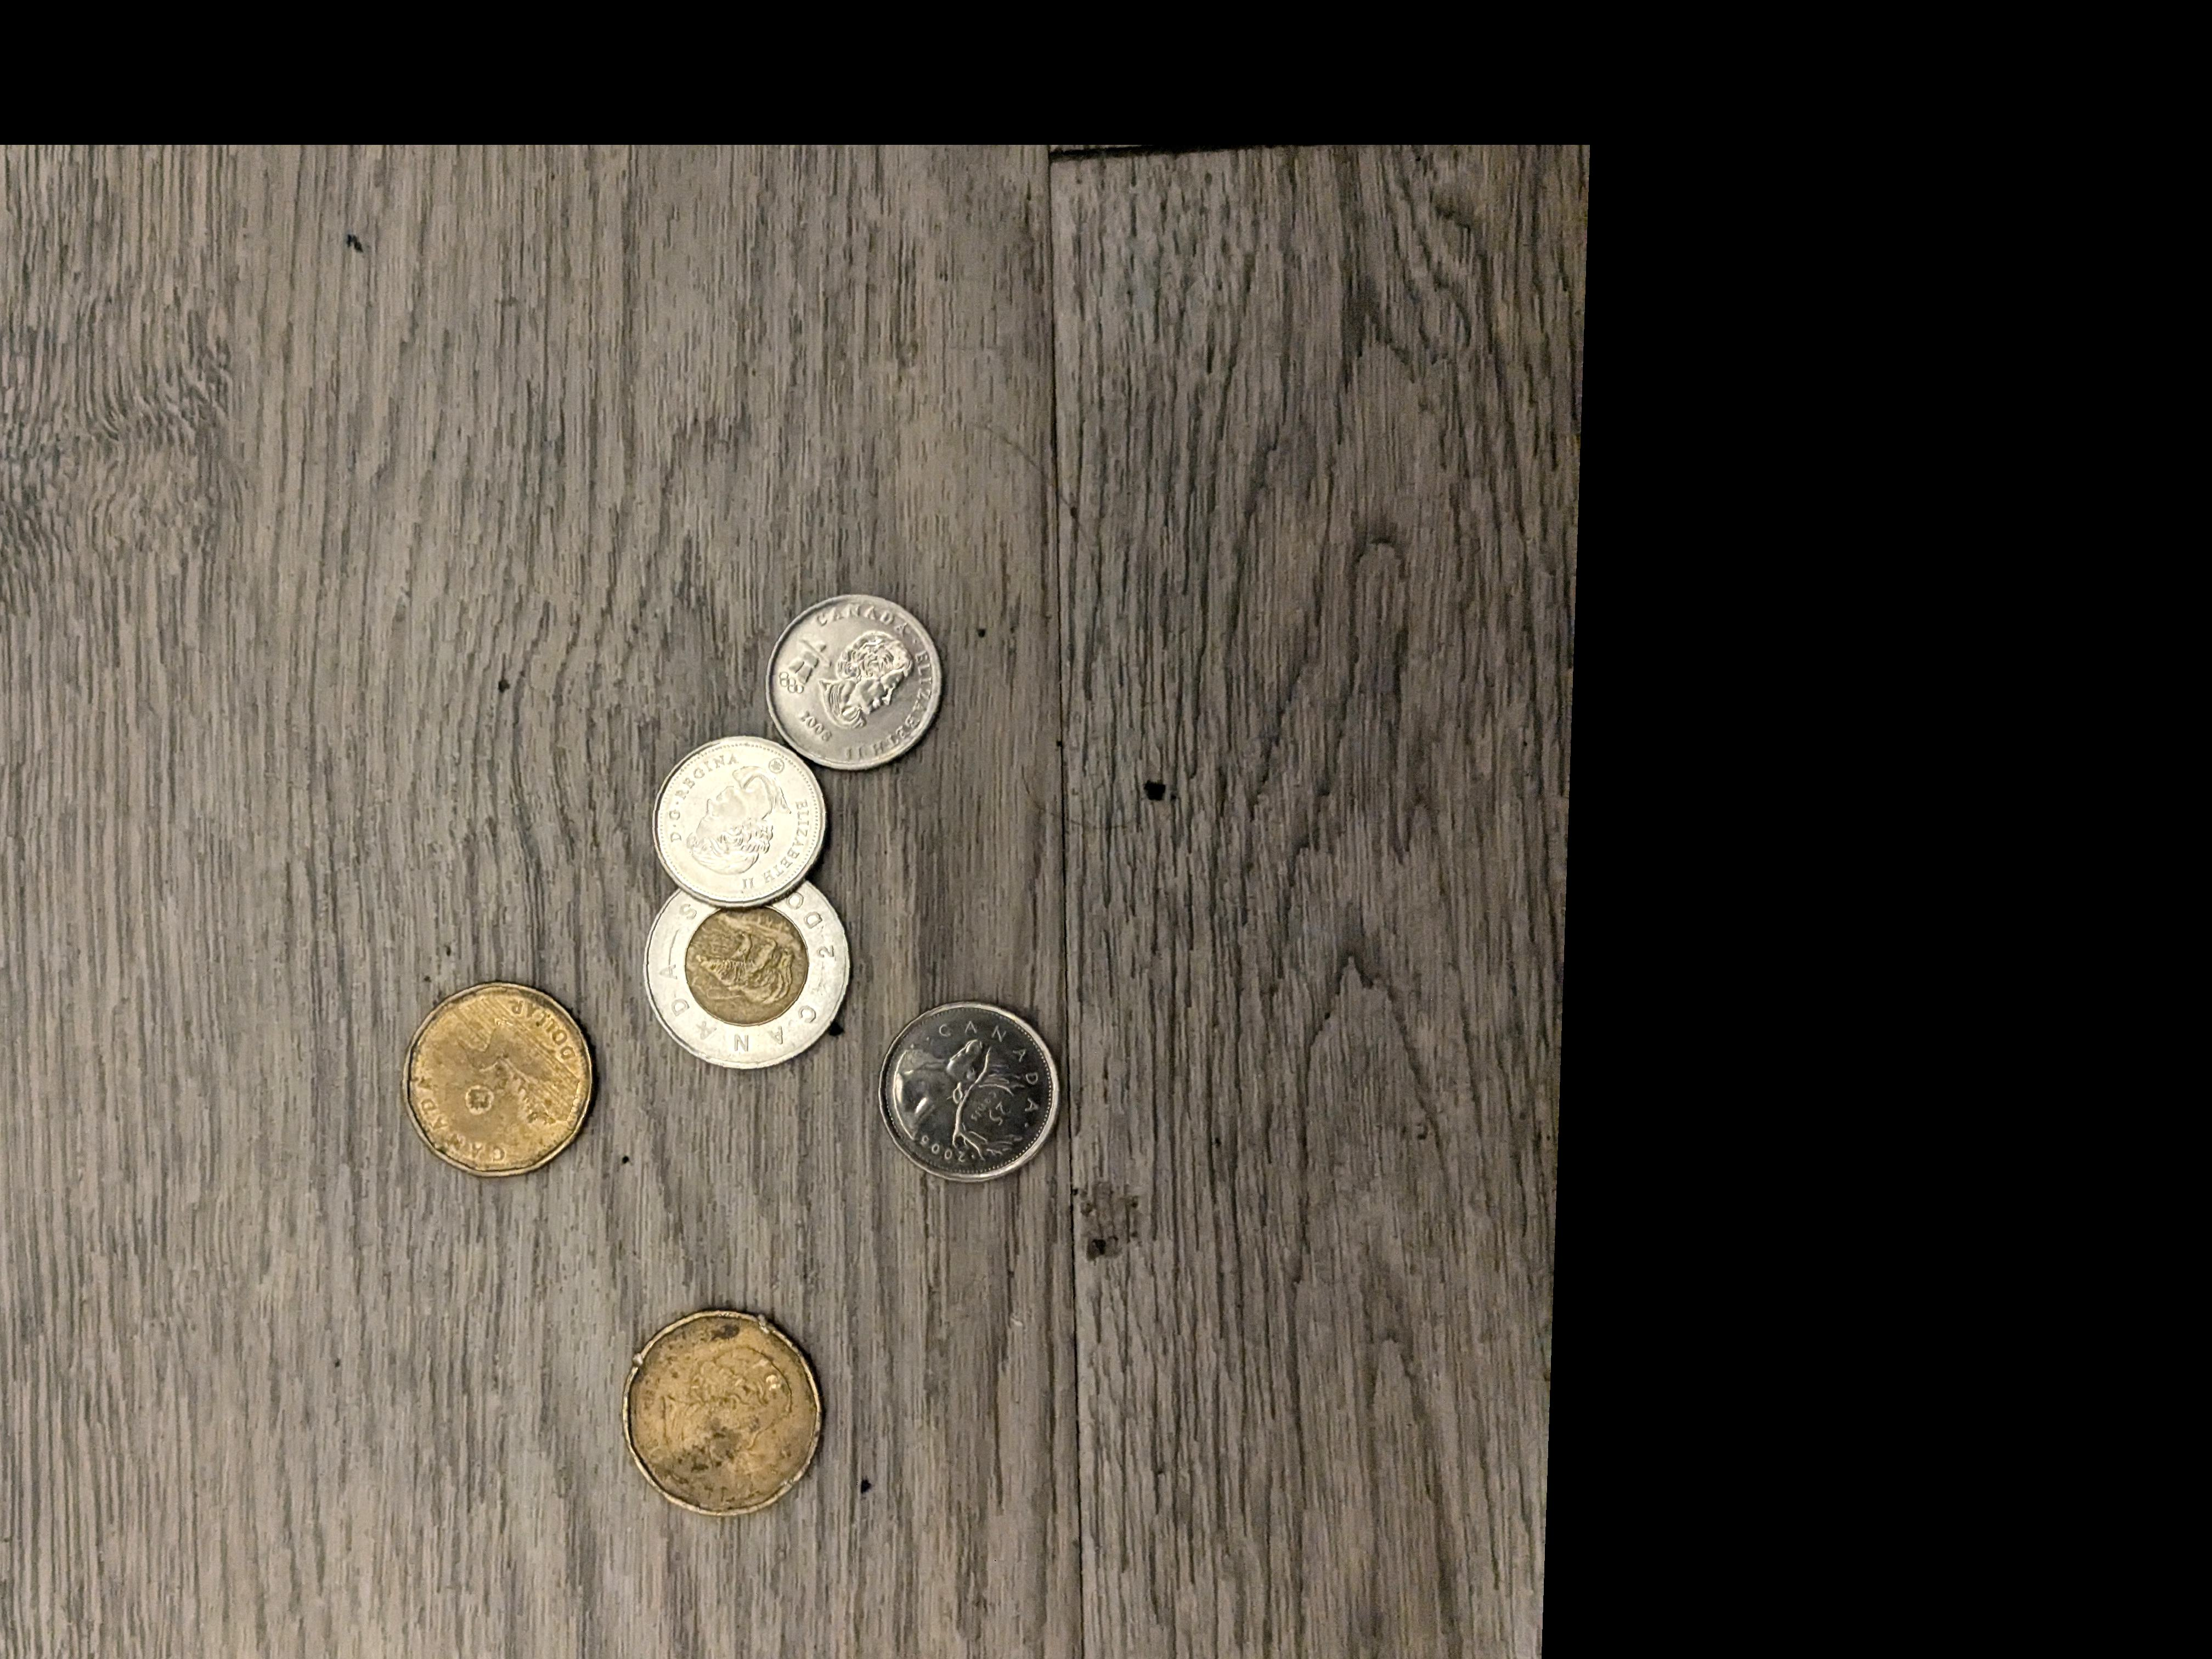loonie: (629, 1307, 819, 1516), (408, 981, 599, 1180)
quarter: (881, 997, 1062, 1187), (761, 592, 941, 775), (651, 737, 827, 899)
toonie: (646, 880, 852, 1070)
